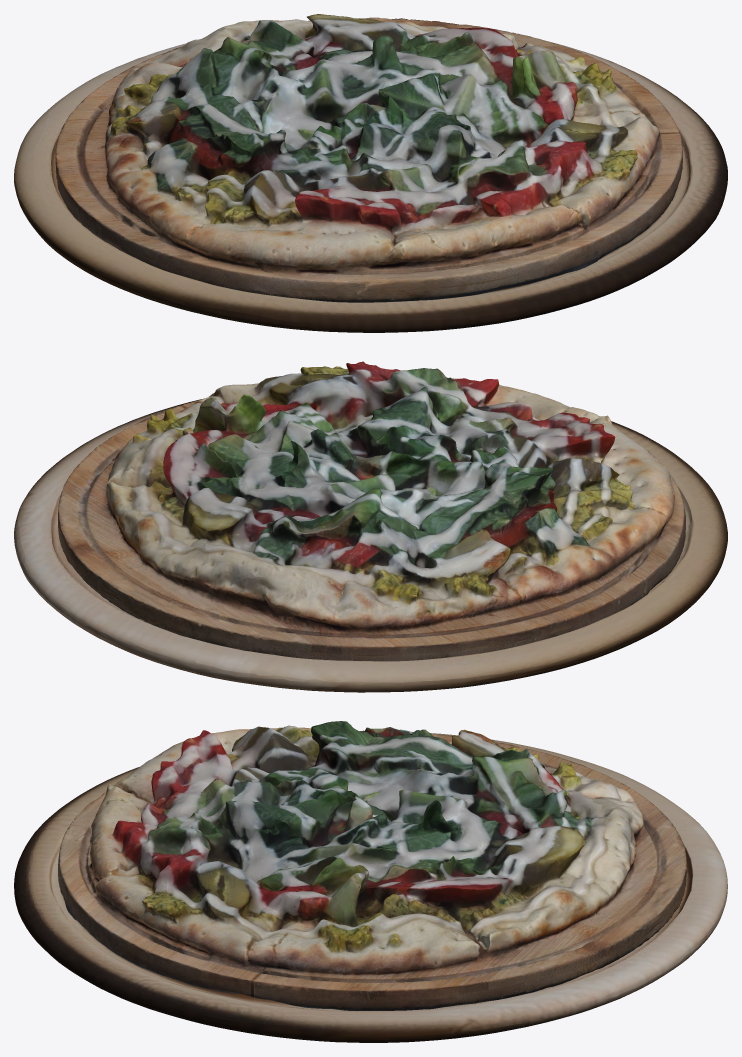
File: mankouche.falafel.glb
The picture shows the model from 3 angles, top to bottom: view 1: azimuth 30°, elevation 25°; view 2: azimuth 150°, elevation 25°; view 3: azimuth 270°, elevation 25°; orthographic projection.
Visible parts, largest first — view 1: /Root/Scenes/Scene/Object_39/Object_40/Submesh_0, /Root/Scenes/Scene/Object_39/Object_43/Object_44/Submesh_0; view 2: /Root/Scenes/Scene/Object_39/Object_40/Submesh_0, /Root/Scenes/Scene/Object_39/Object_43/Object_44/Submesh_0; view 3: /Root/Scenes/Scene/Object_39/Object_40/Submesh_0, /Root/Scenes/Scene/Object_39/Object_43/Object_44/Submesh_0.
Part boxes in pixels (bbox=[...]): /Root/Scenes/Scene/Object_39/Object_40/Submesh_0: bbox=[55, 14, 682, 302]; /Root/Scenes/Scene/Object_39/Object_43/Object_44/Submesh_0: bbox=[14, 42, 727, 332]; /Root/Scenes/Scene/Object_39/Object_40/Submesh_0: bbox=[58, 361, 685, 661]; /Root/Scenes/Scene/Object_39/Object_43/Object_44/Submesh_0: bbox=[14, 399, 727, 692]; /Root/Scenes/Scene/Object_39/Object_40/Submesh_0: bbox=[58, 721, 686, 1011]; /Root/Scenes/Scene/Object_39/Object_43/Object_44/Submesh_0: bbox=[14, 732, 727, 1042].
Size of the model in its own units: 0.416 by 0.0759 by 0.4159.
Materials: 2 (2 with a texture image).
